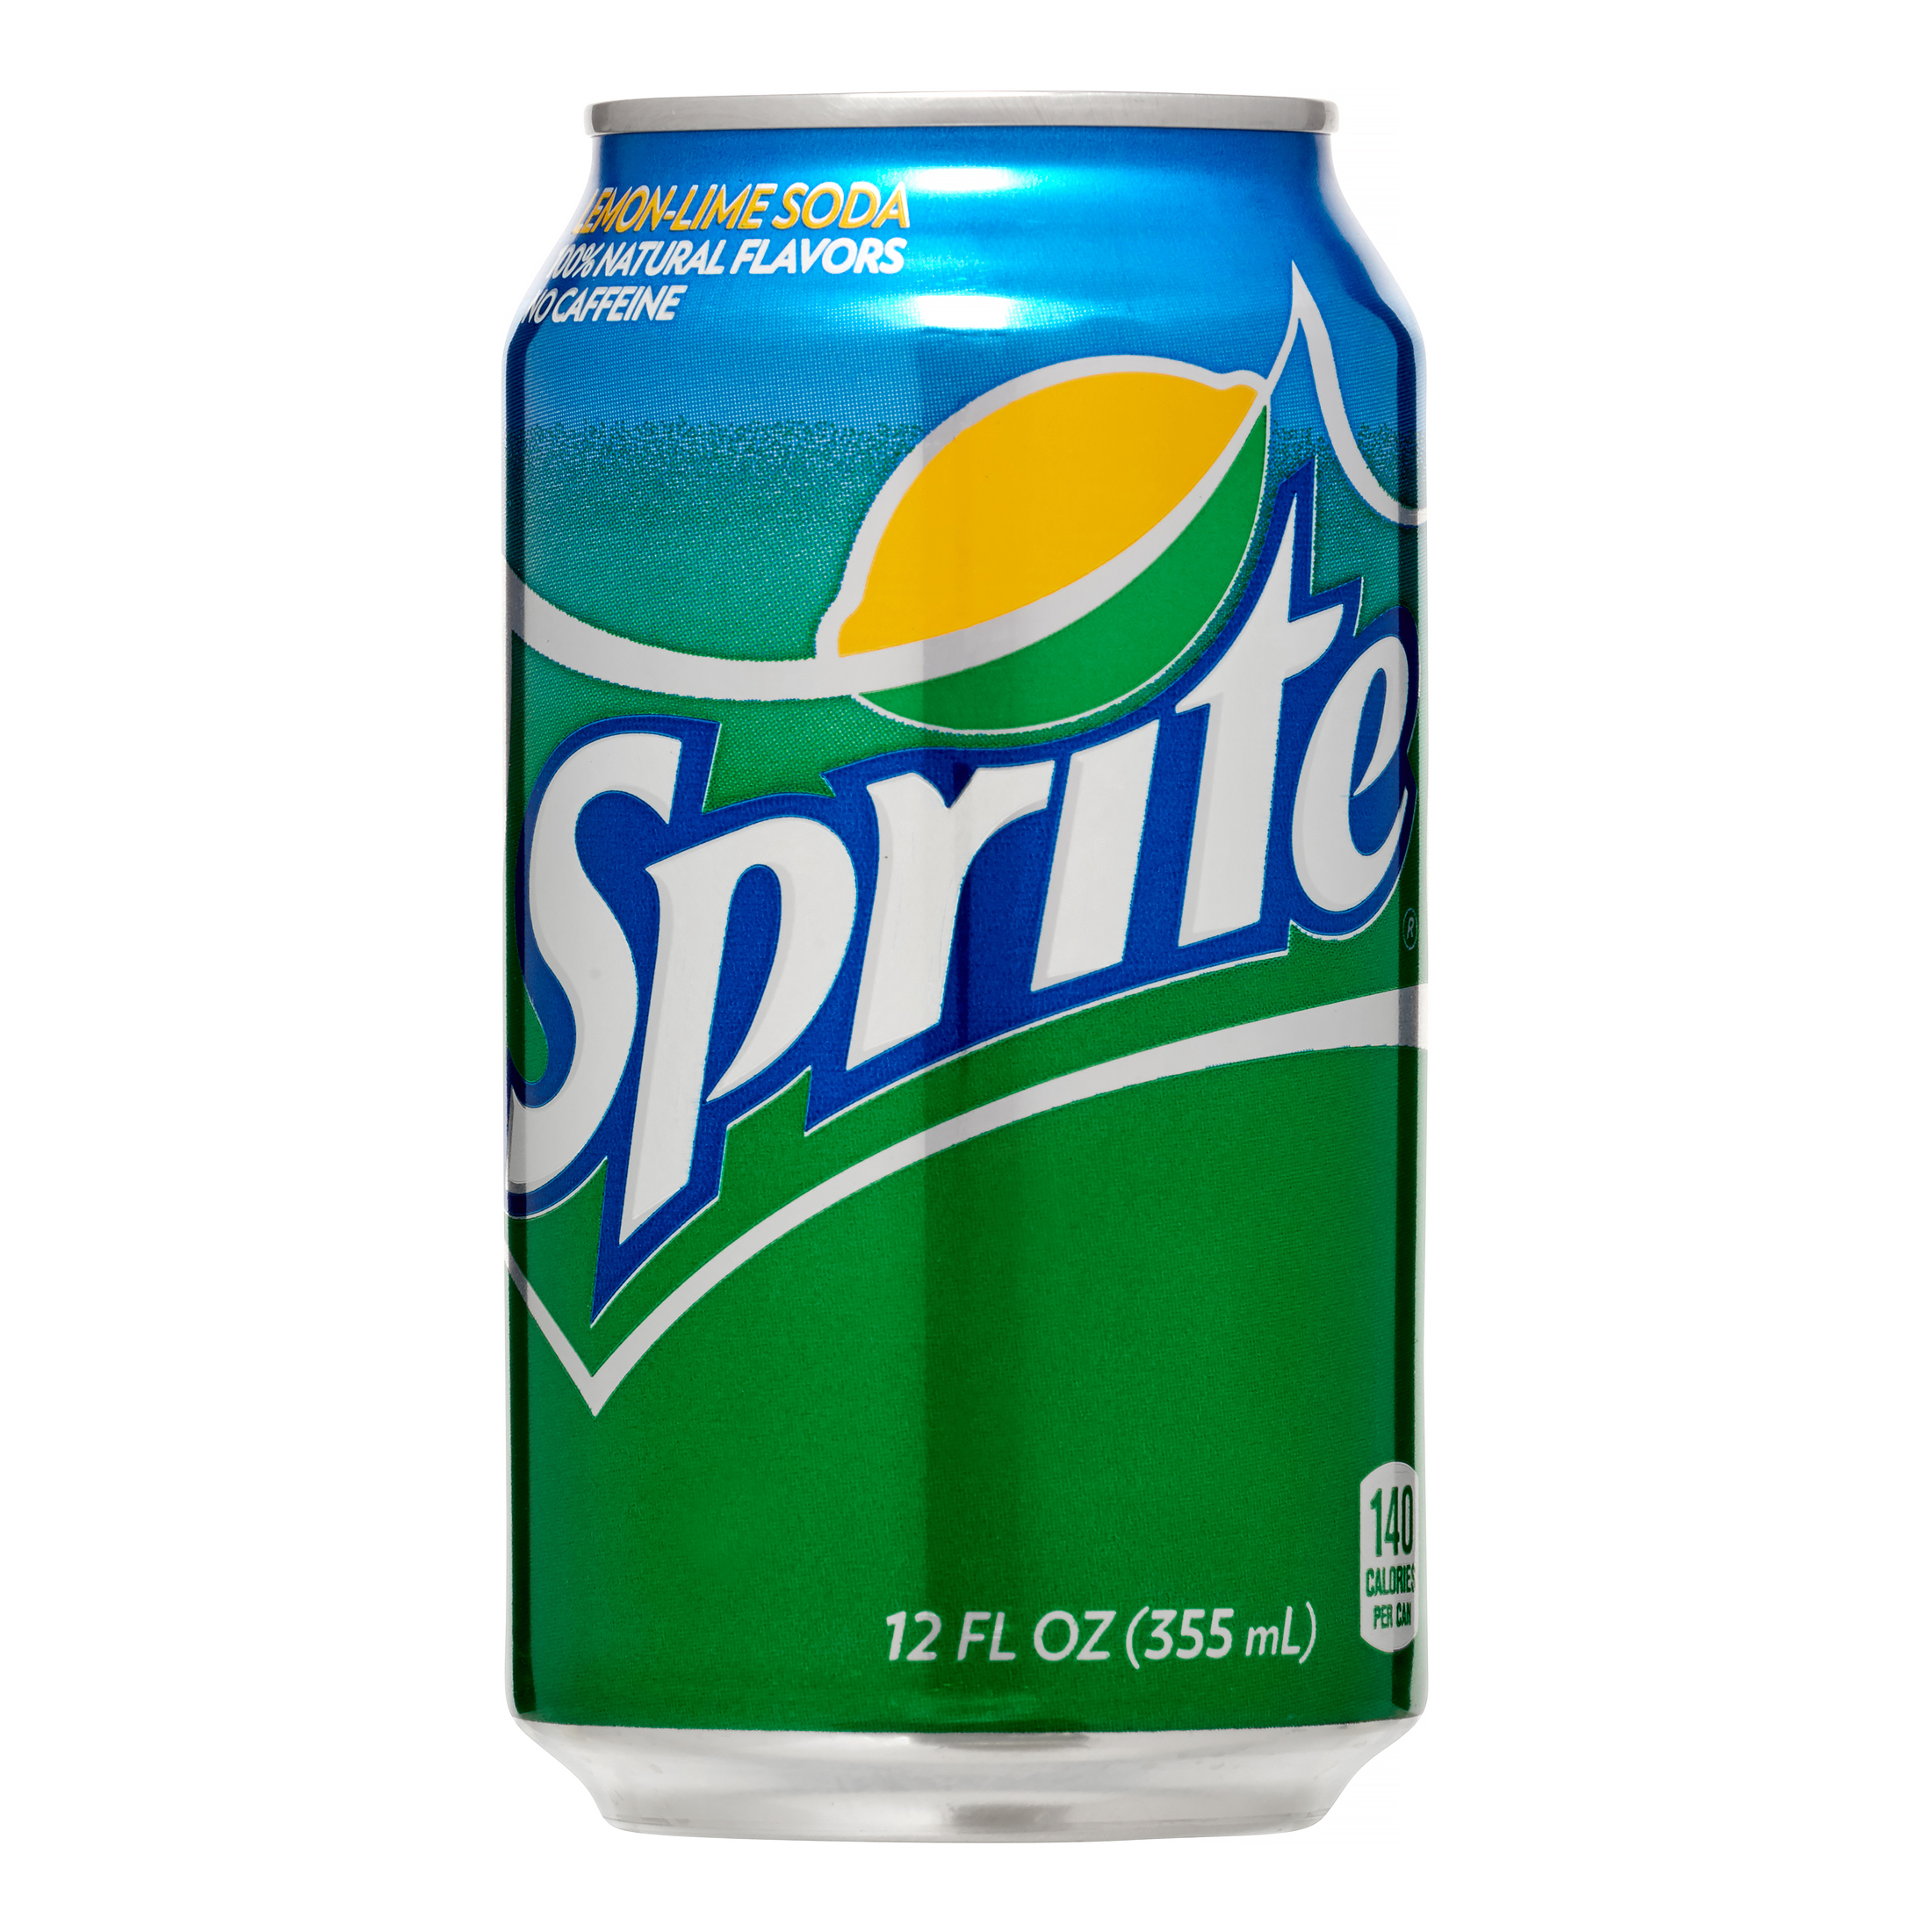sprite: (510, 492, 1417, 1242)
